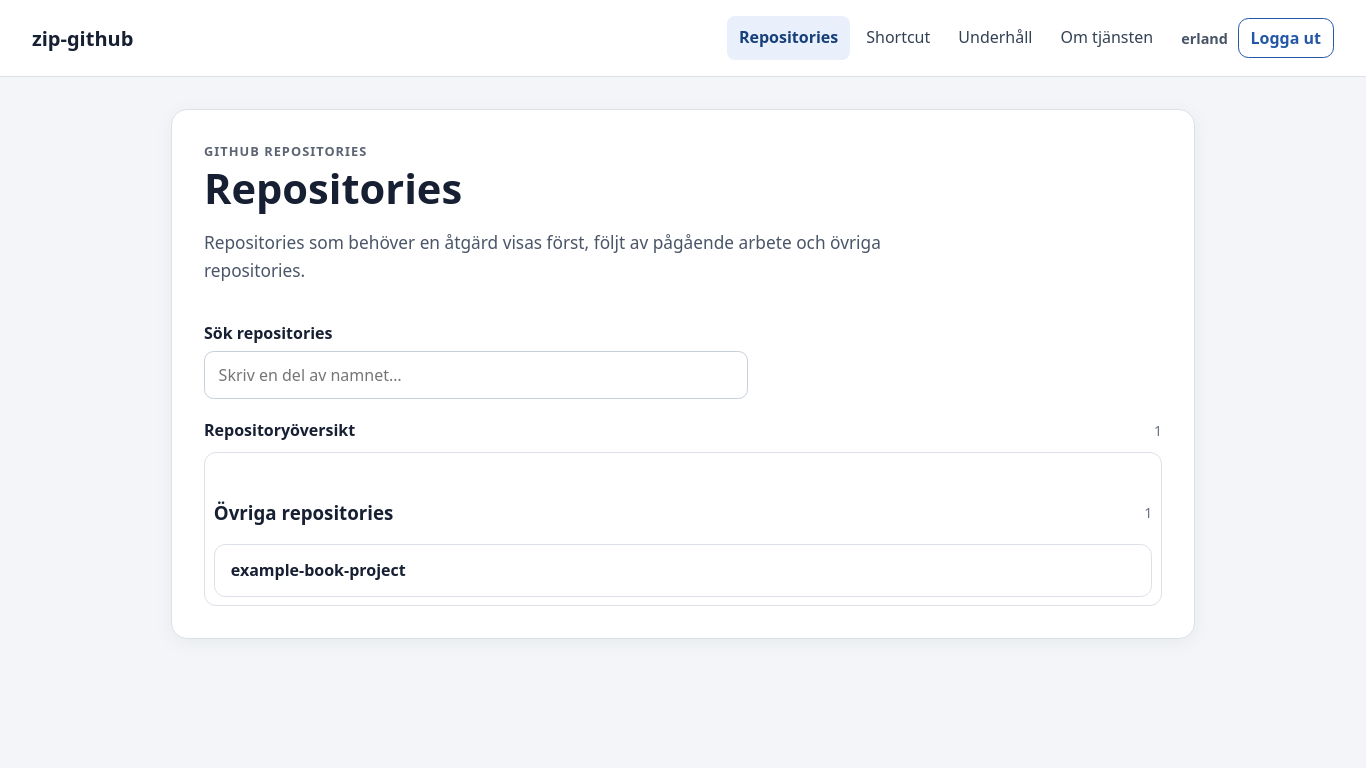
Test: App routing and authentication › creates project and Work lazily and opens the first ZIP upload directly for a new repository
The width and height of the screenshot is (1366, 768).
Click the link "example-book-project".
click(318, 570)  # box [214,544,1152,597]
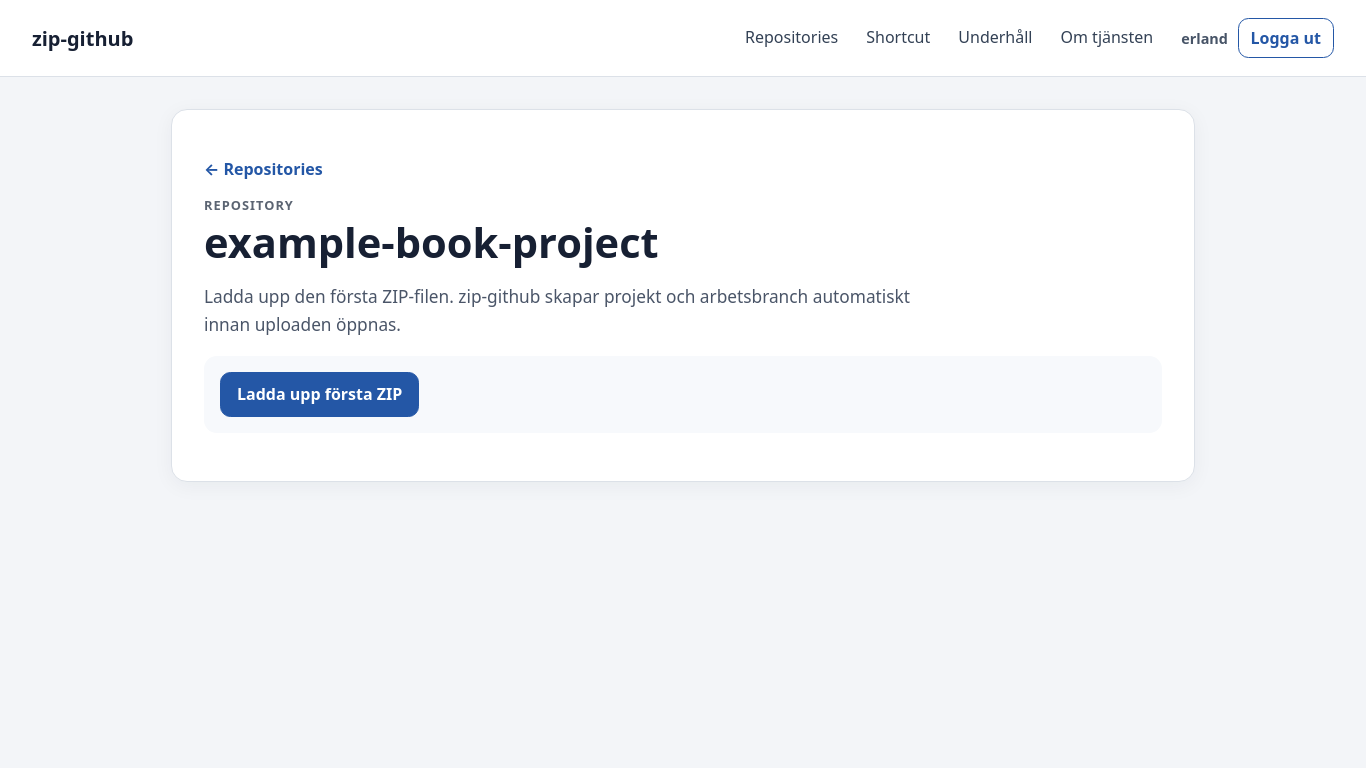
Expected: the heading "example-book-project" is shown, [204,214,659,270]
Expected: the button "Ladda upp första ZIP" is shown
Click the button "Ladda upp första ZIP".
click(320, 394)  # box [220,372,419,417]
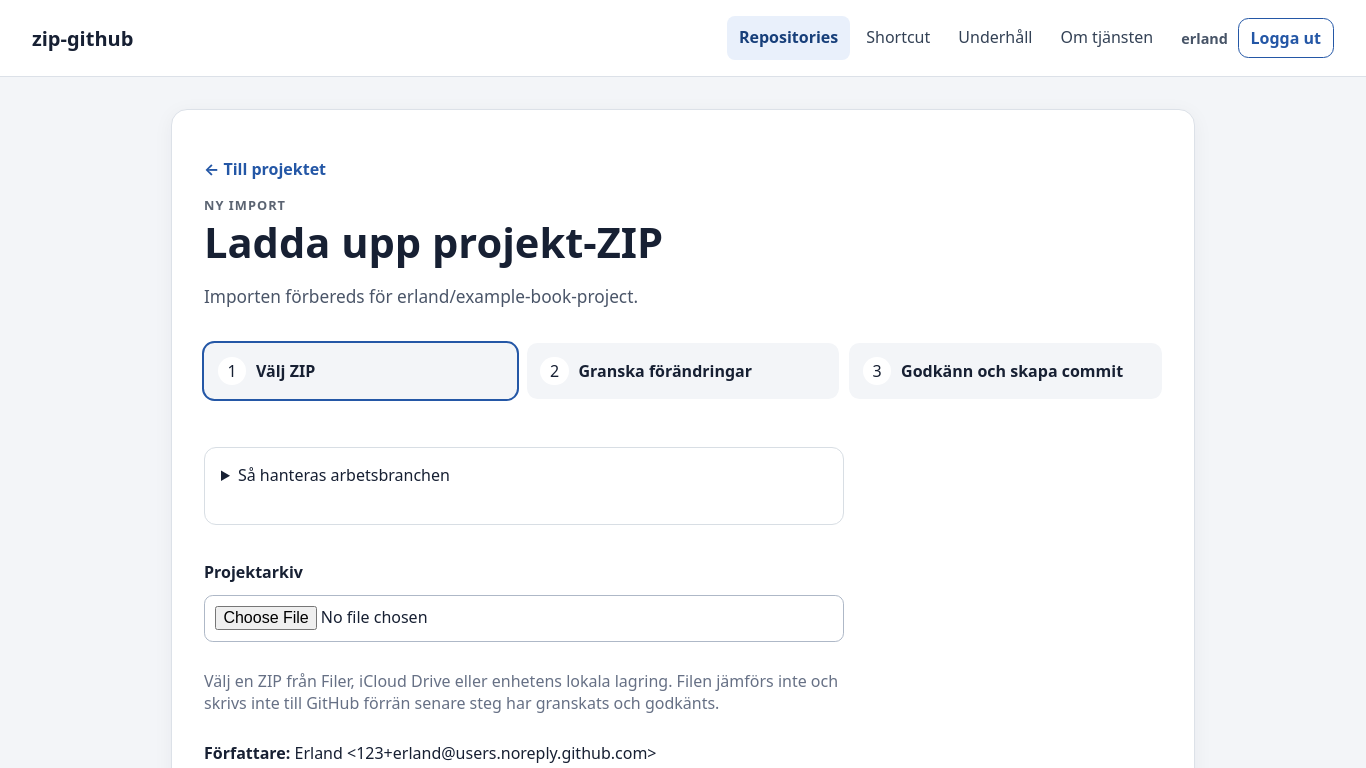
Expected: the heading "Ladda upp projekt-ZIP" is shown, [204,214,663,270]
Expected: the file field labelled "Projektarkiv" is enabled, [204,595,844,642]
